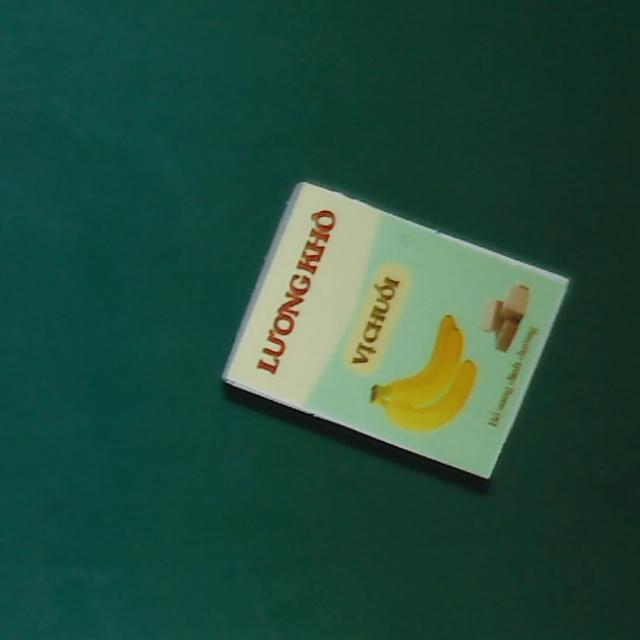chuoi: (219, 177, 570, 485)
